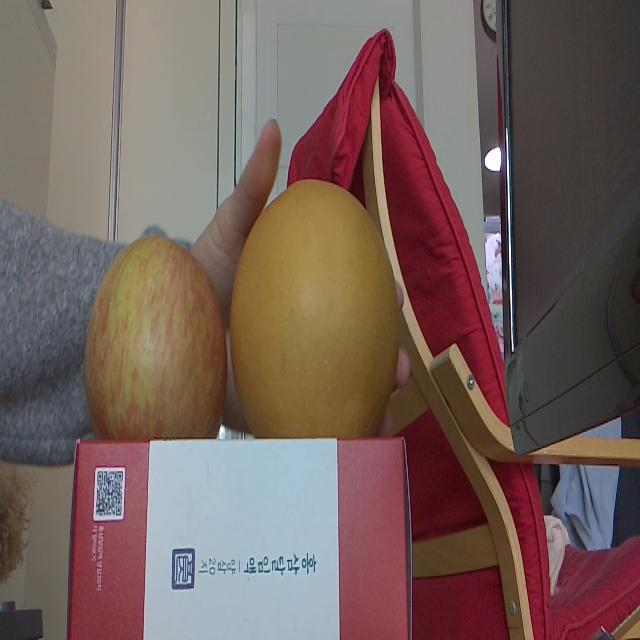apple: (82, 234, 230, 442)
pear: (230, 169, 397, 439)
